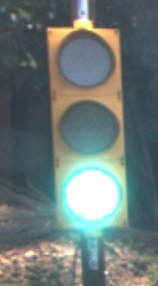Green: (38, 14, 136, 257)
